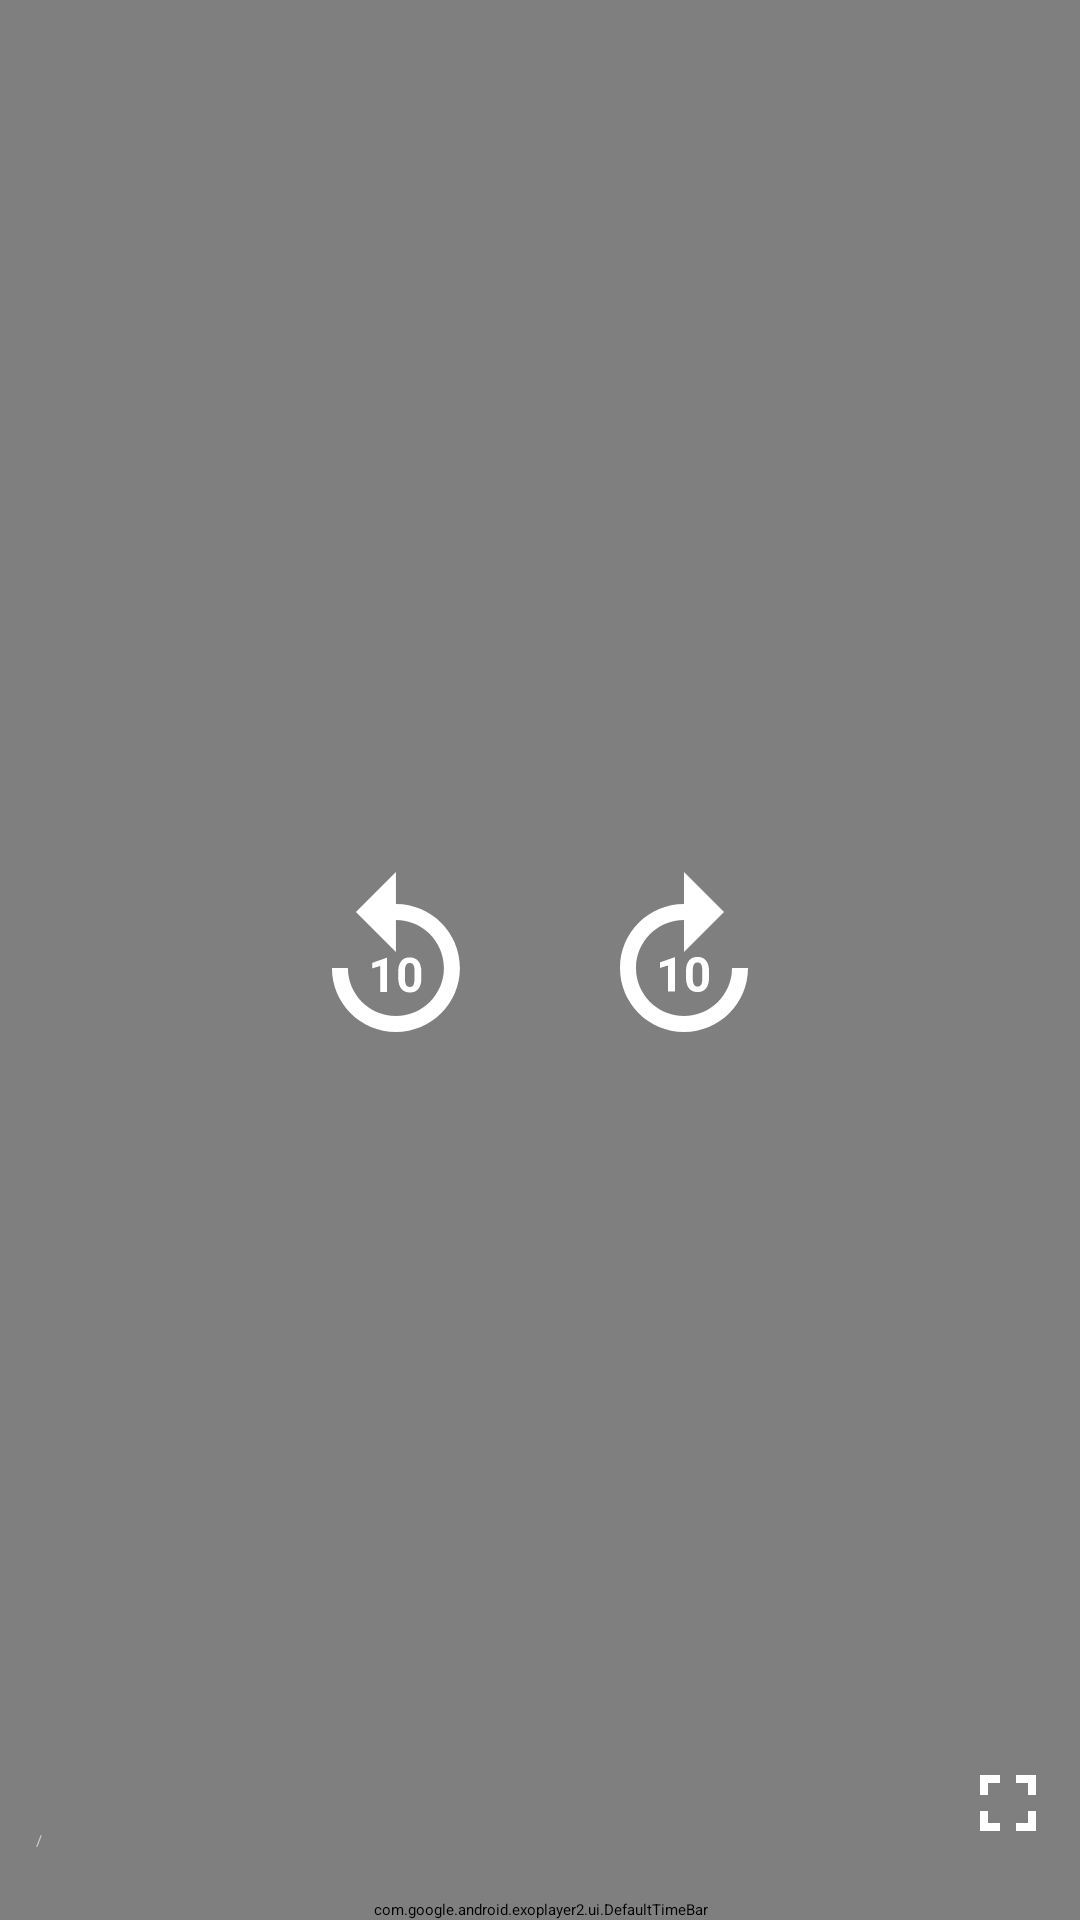

Icon bounding boxes for this 1080 x 1920 phone screenshot, format (x1, y1, x2, y2):
forward: (620, 872, 748, 1032)
fullscreen: (980, 1775, 1036, 1831)
rew: (332, 872, 460, 1032)
